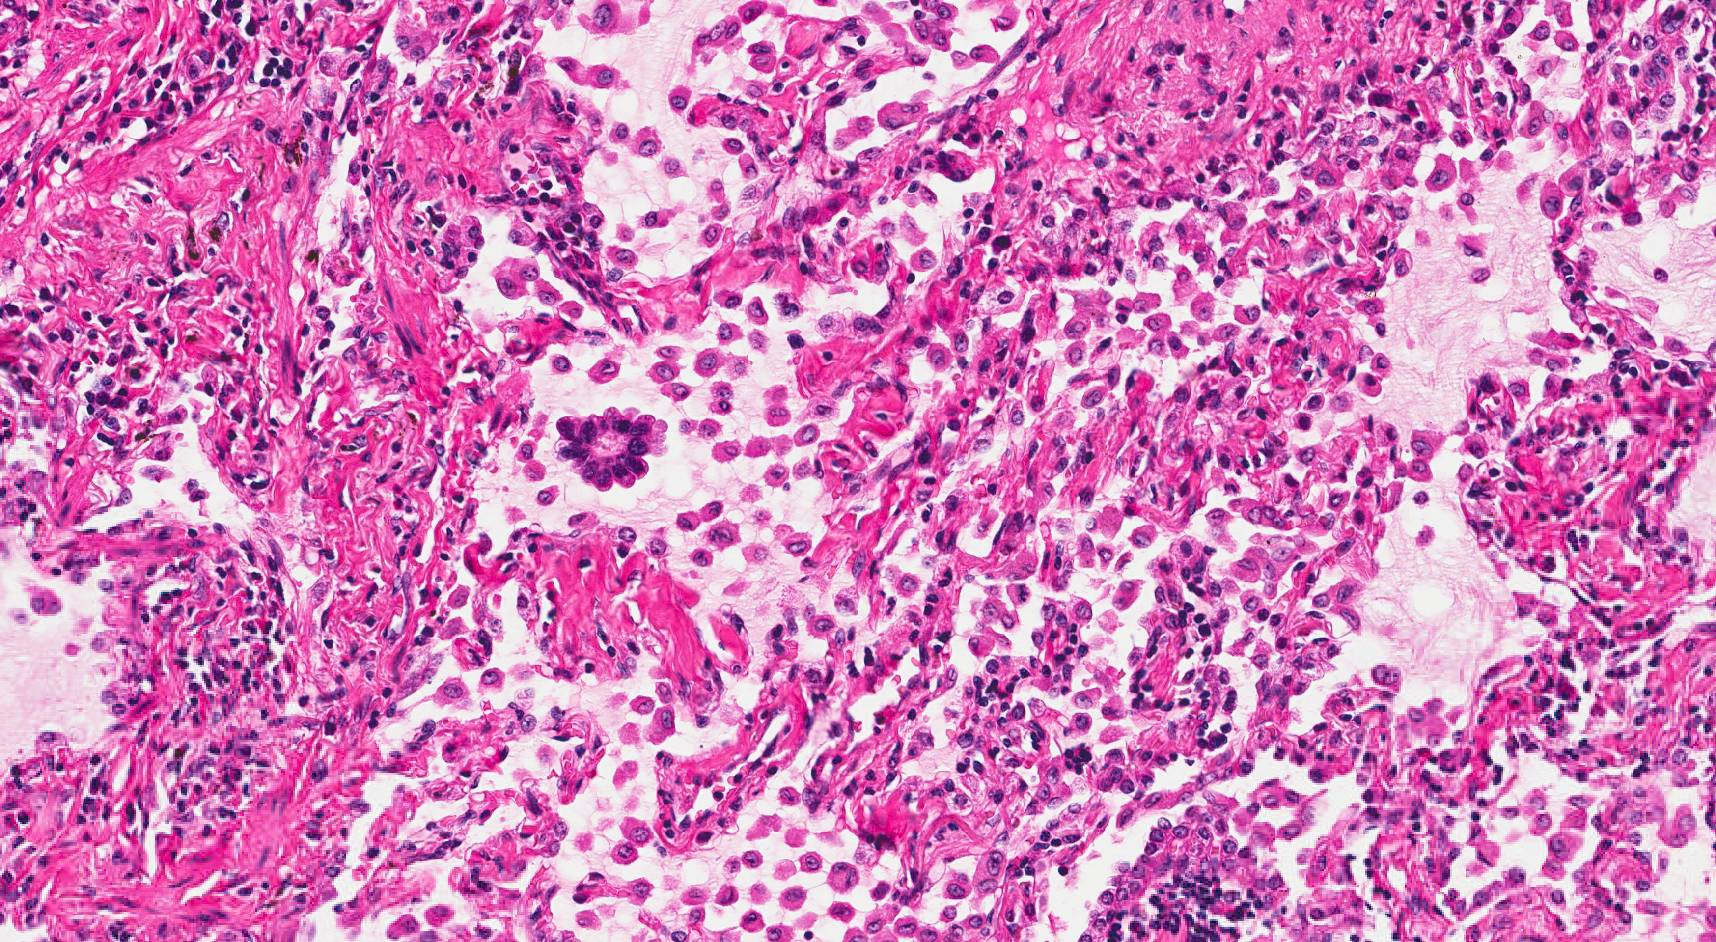stas: (553, 403, 675, 490)
